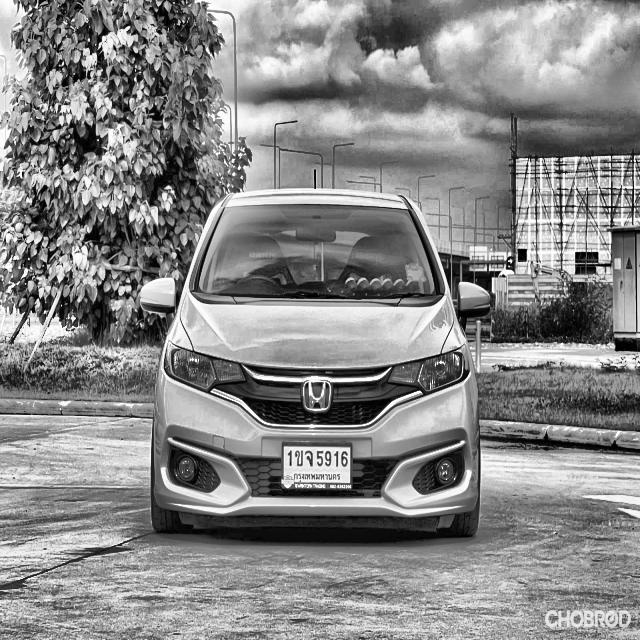license-plate: (281, 438, 353, 492)
